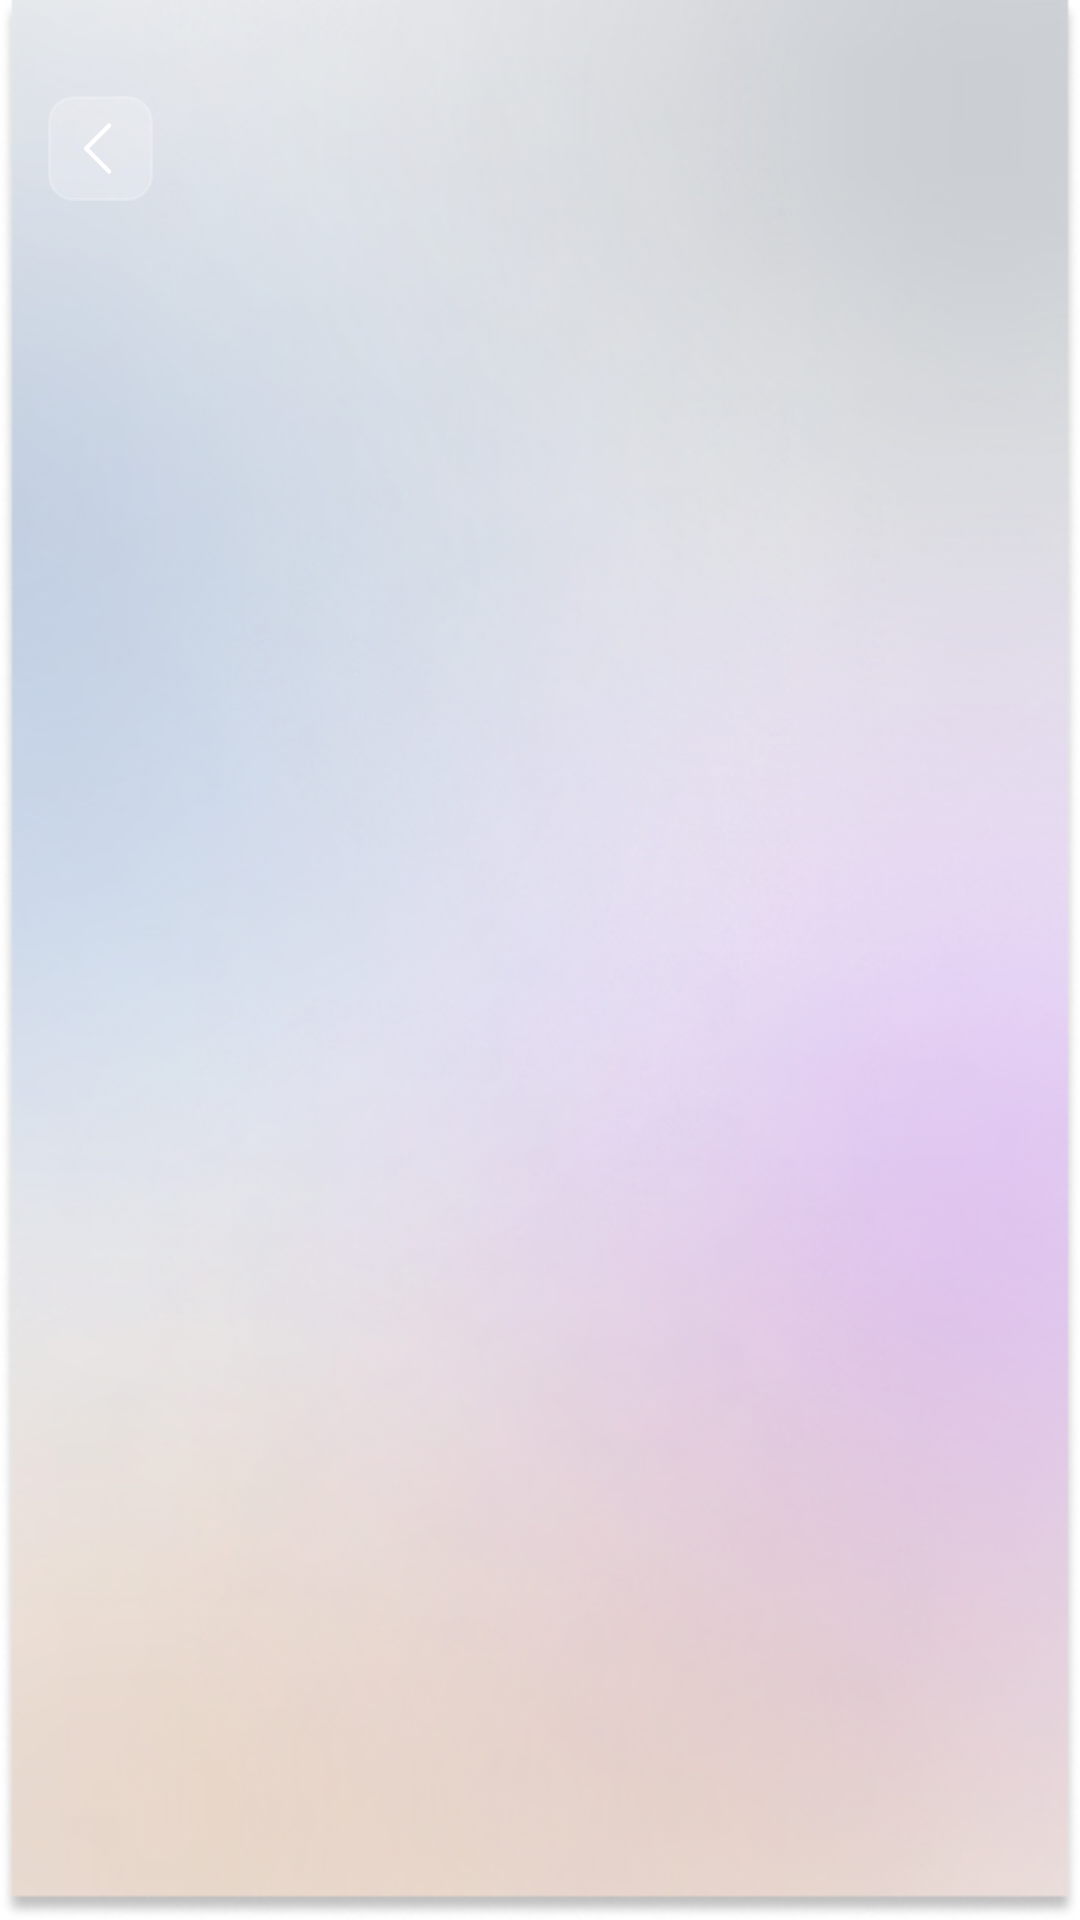

Screen size 1080 x 1920. Icon name, then its box in pixels as BBox(x1, y1, x2, y2):
chevron left: BBox(84, 124, 111, 173)
